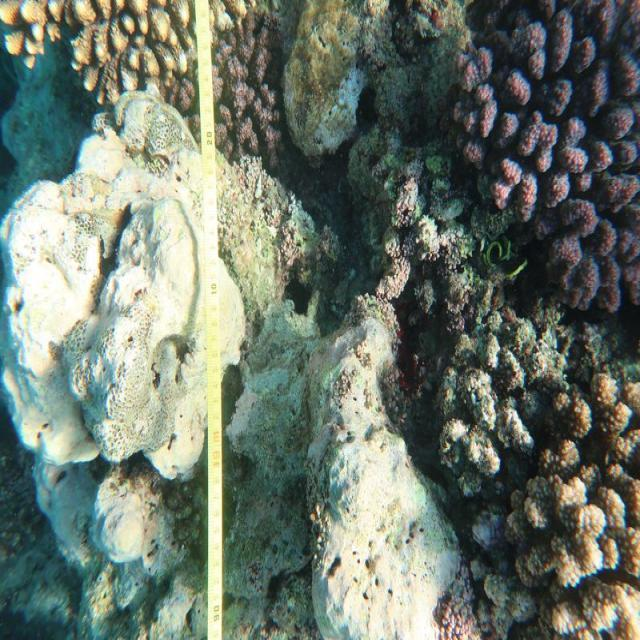Healthy Coral: (456, 0, 640, 322)
